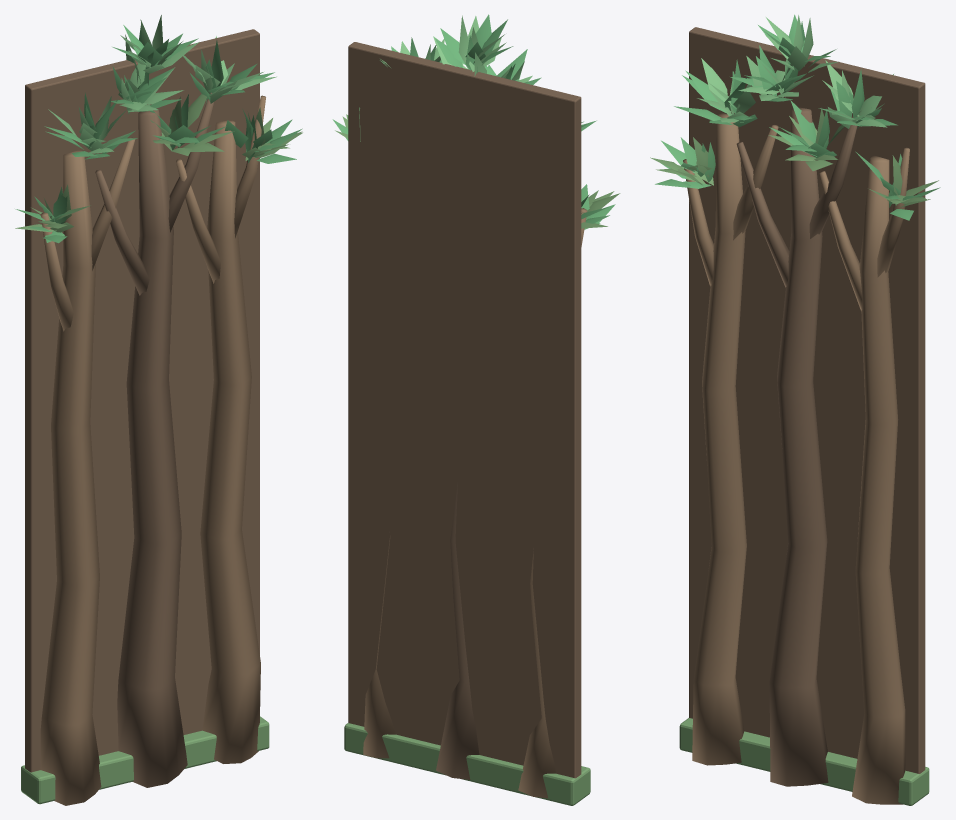
Rendered from tree_wall_panel.glb.
The picture shows the model from 3 angles, left to right: view 1: azimuth 30°, elevation 25°; view 2: azimuth 150°, elevation 25°; view 3: azimuth 330°, elevation 25°; orthographic projection.
Parts seen in each view (by area): view 1: FoliageBack, TreeTrunk_1, TreeTrunk_0, TreeTrunk_2, RootPlinth, LeafSpray_3, LeafSpray_1, LeafSpray_2, LeafSpray_4, LeafSpray_5, LeafSpray_6, Branch_1_0 (+6 smaller); view 2: FoliageBack, RootPlinth, TreeTrunk_1, TreeTrunk_0, LeafSpray_6, TreeTrunk_2, LeafSpray_0, LeafSpray_2; view 3: FoliageBack, TreeTrunk_1, TreeTrunk_0, TreeTrunk_2, RootPlinth, LeafSpray_1, LeafSpray_4, LeafSpray_3, LeafSpray_0, LeafSpray_2, Branch_1_0, LeafSpray_6 (+6 smaller).
Part boxes in pixels (x1,y1,x2,y2): FoliageBack: [25, 29, 259, 772]; TreeTrunk_1: [117, 110, 187, 787]; TreeTrunk_0: [40, 150, 101, 805]; TreeTrunk_2: [200, 120, 260, 763]; RootPlinth: [21, 716, 269, 804]; LeafSpray_3: [150, 94, 234, 155]; LeafSpray_1: [44, 92, 137, 159]; LeafSpray_2: [111, 34, 183, 114]; LeafSpray_4: [183, 36, 276, 103]; LeafSpray_5: [225, 107, 302, 163]; LeafSpray_6: [112, 15, 199, 73]; Branch_1_0: [95, 169, 149, 295]; FoliageBack: [348, 42, 581, 778]; RootPlinth: [344, 723, 590, 805]; TreeTrunk_1: [436, 482, 479, 779]; TreeTrunk_0: [518, 548, 556, 798]; LeafSpray_6: [433, 14, 513, 70]; TreeTrunk_2: [363, 532, 395, 758]; LeafSpray_0: [581, 184, 620, 229]; LeafSpray_2: [463, 49, 541, 84]; FoliageBack: [689, 27, 925, 773]; TreeTrunk_1: [769, 107, 828, 786]; TreeTrunk_0: [692, 113, 746, 765]; TreeTrunk_2: [852, 155, 905, 804]; RootPlinth: [679, 718, 929, 805]; LeafSpray_1: [674, 58, 757, 127]; LeafSpray_4: [818, 60, 897, 128]; LeafSpray_3: [768, 100, 860, 171]; LeafSpray_0: [650, 137, 715, 188]; LeafSpray_2: [730, 45, 813, 101]; Branch_1_0: [736, 141, 789, 287]; LeafSpray_6: [758, 14, 838, 72].
Bounding box in the file's own units: 2.31 × 6 × 0.7236.
